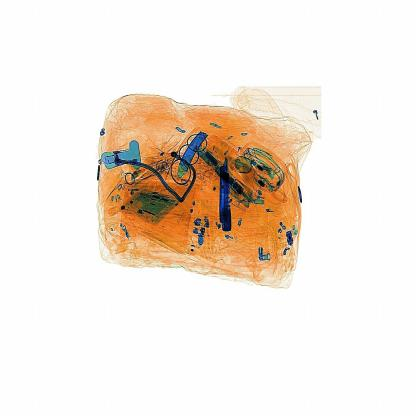pliers: (216, 154, 235, 238)
